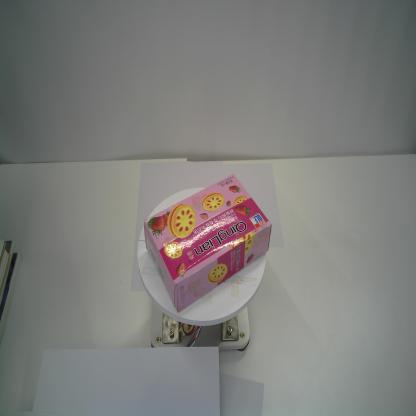Dessert: (143, 172, 273, 314)
